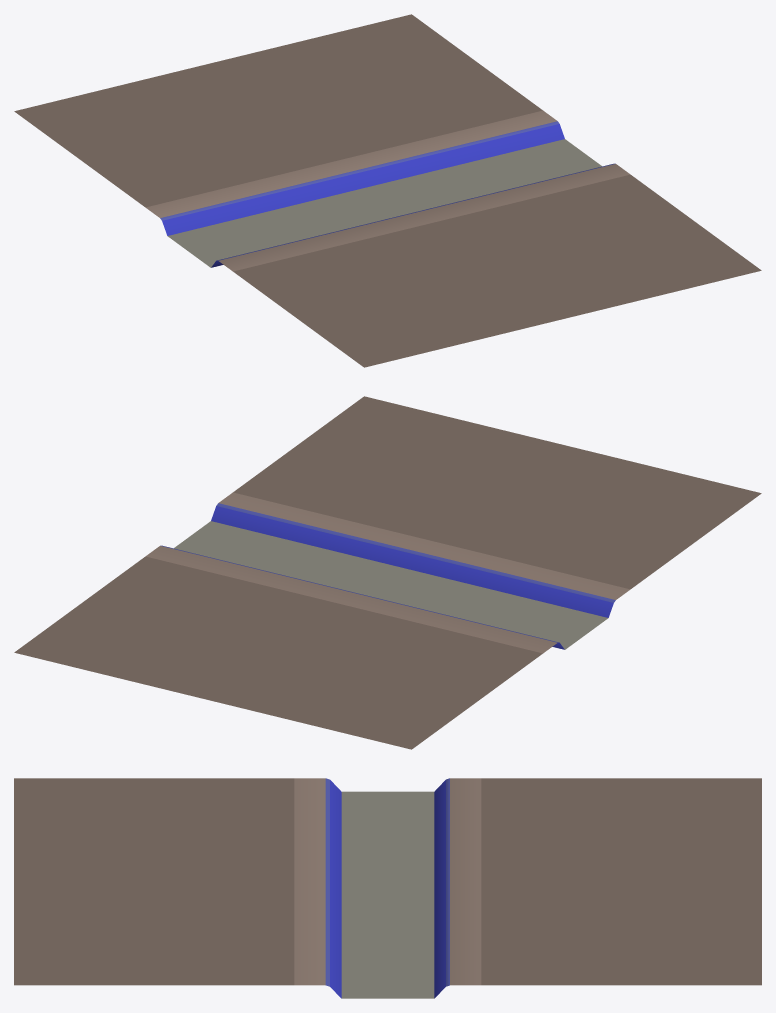
File: Grass.fbx
3 views of the same model, one above another, from view 1: azimuth 30°, elevation 25°; view 2: azimuth 150°, elevation 25°; view 3: azimuth 270°, elevation 25° (orthographic). The views are drawn at different scales.
Parts seen in each view (by area): view 1: Grass; view 2: Grass; view 3: Grass.
Part boxes in pixels (x1,y1,x2,y2): Grass: (14,14,761,367); Grass: (14,396,761,749); Grass: (14,778,761,998).
Bounding box in the file's own units: 932 × 28 × 1422.
